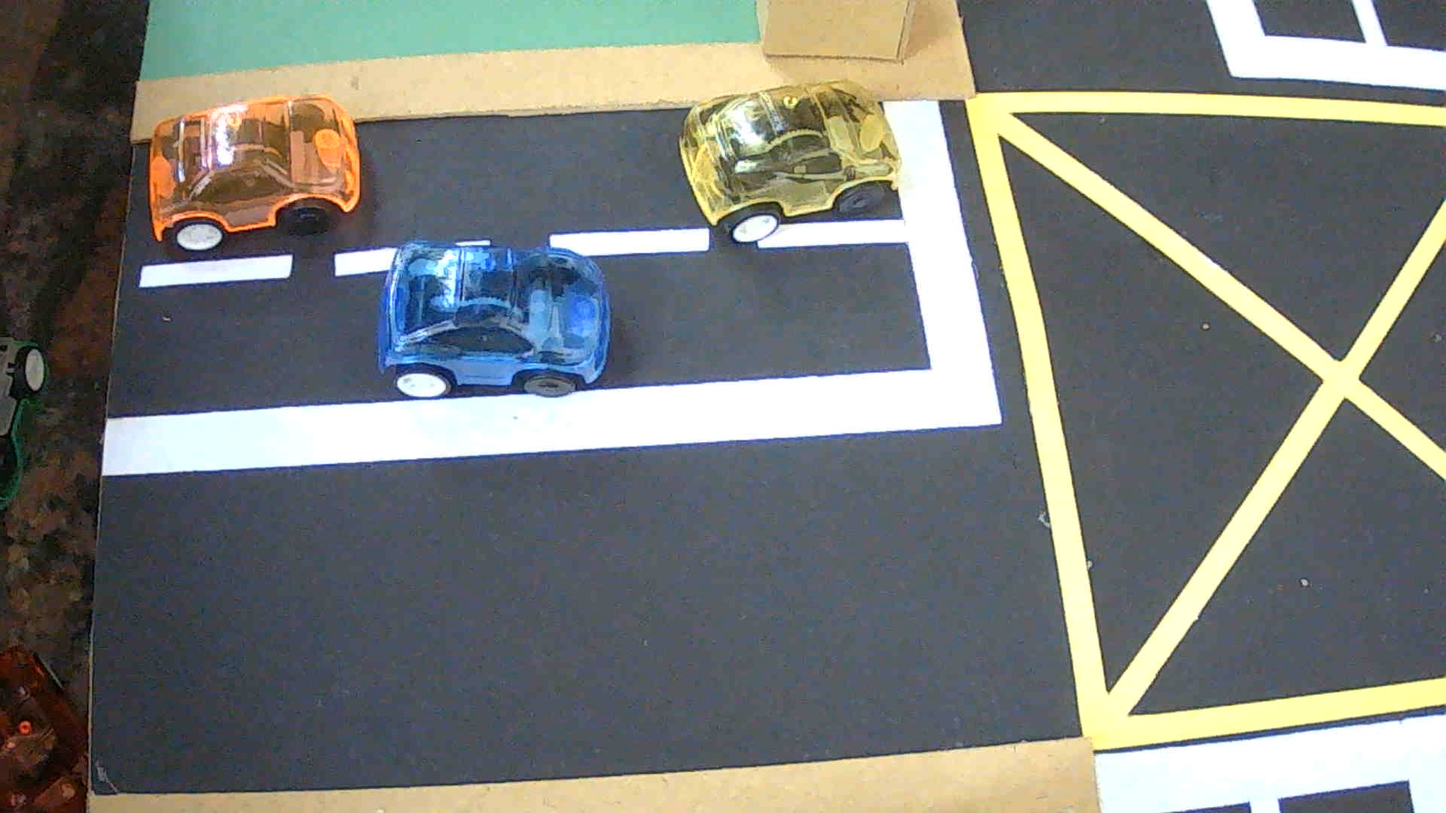Mobil biru: (377, 240, 611, 397)
Mobil kuning: (679, 81, 900, 242)
Mobil orange: (148, 95, 362, 251)
